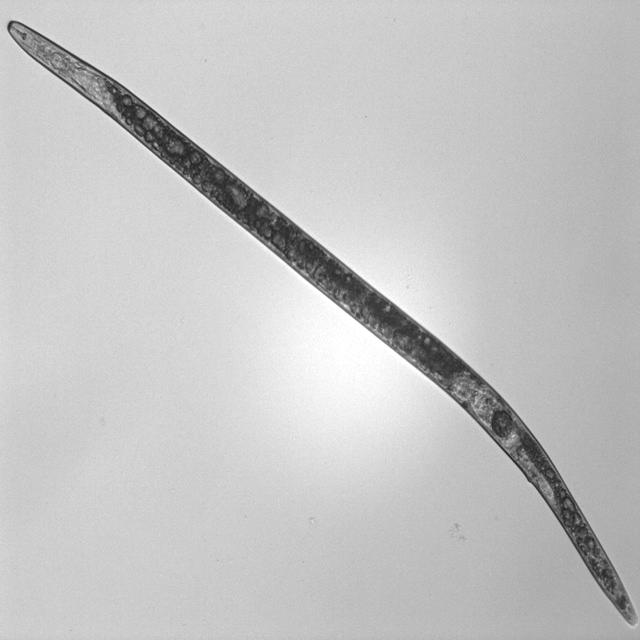Pratylenchus: (4, 18, 637, 628)
